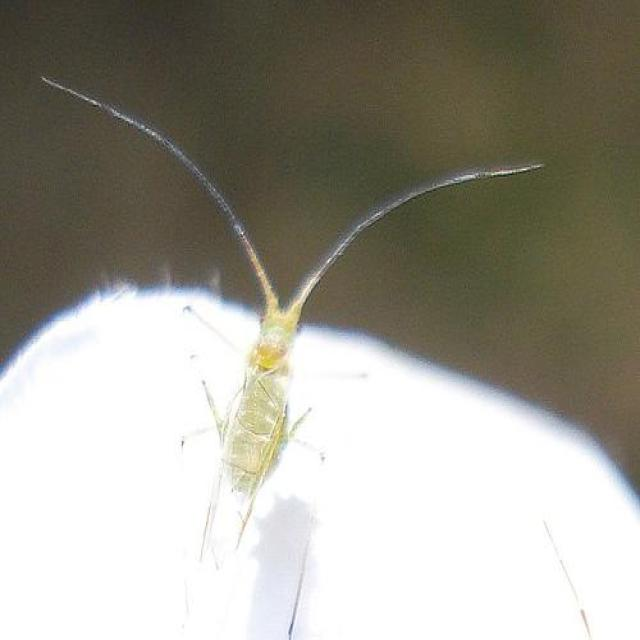Aphids: (35, 66, 549, 544)
